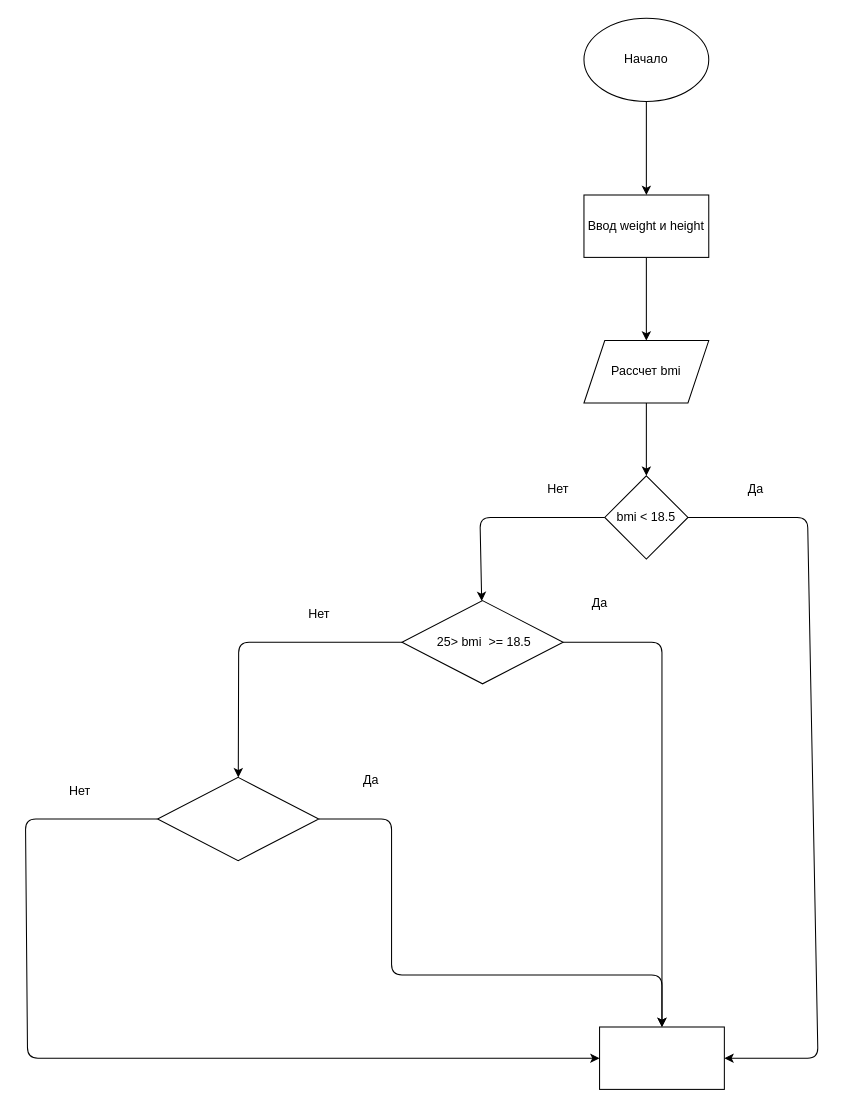
Image size: 844x1108. Some labels were removed from this diagram. Each missing label, with the box of its shape:
30 > bmi >= 25: (157, 776, 319, 861)
Вывод: (599, 1026, 724, 1089)
